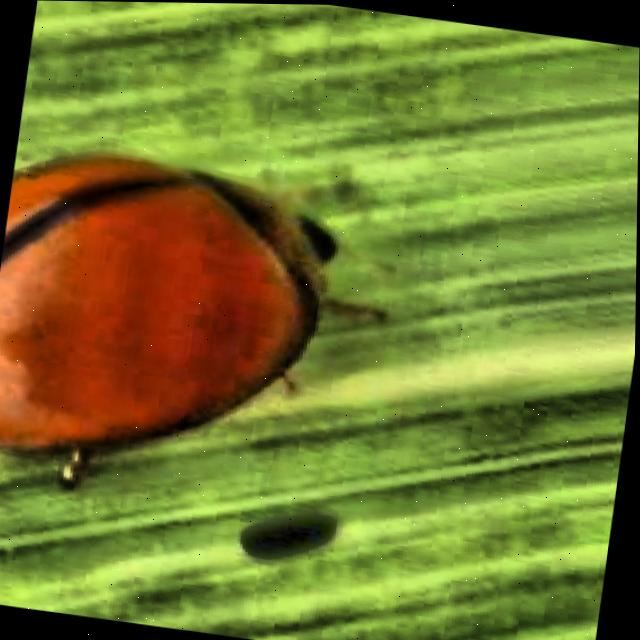Ladybug: (0, 58, 490, 575)
